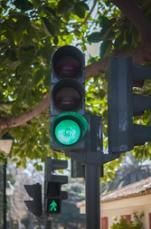green_light: (50, 45, 88, 150)
